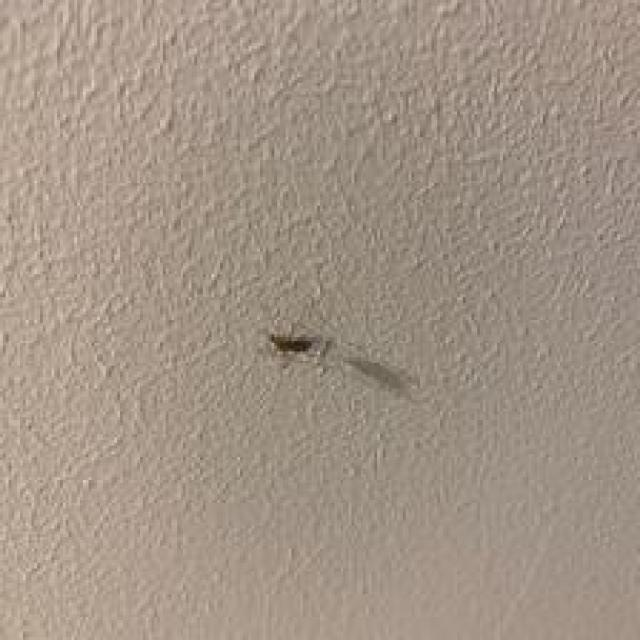Culex: (267, 328, 422, 403)
